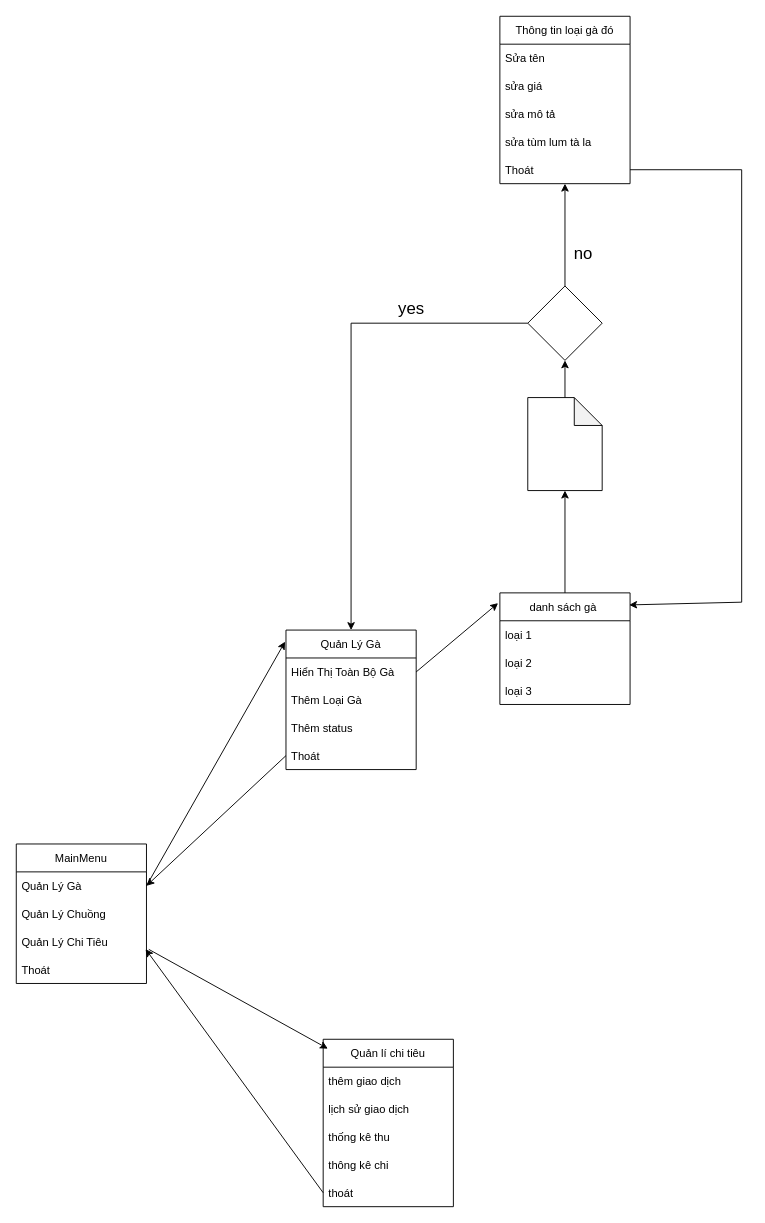
The diagram is 765 pixels wide and 1223 high, and some of its shapes have lost their labels. The centre of each missing label's shape, as x and y in pixels:
id = 0?: point 564,322
sau đó hiển thị nhập id gà muốn thay đổi dữ liệu hoặc 0 để thoát: point 564,444
